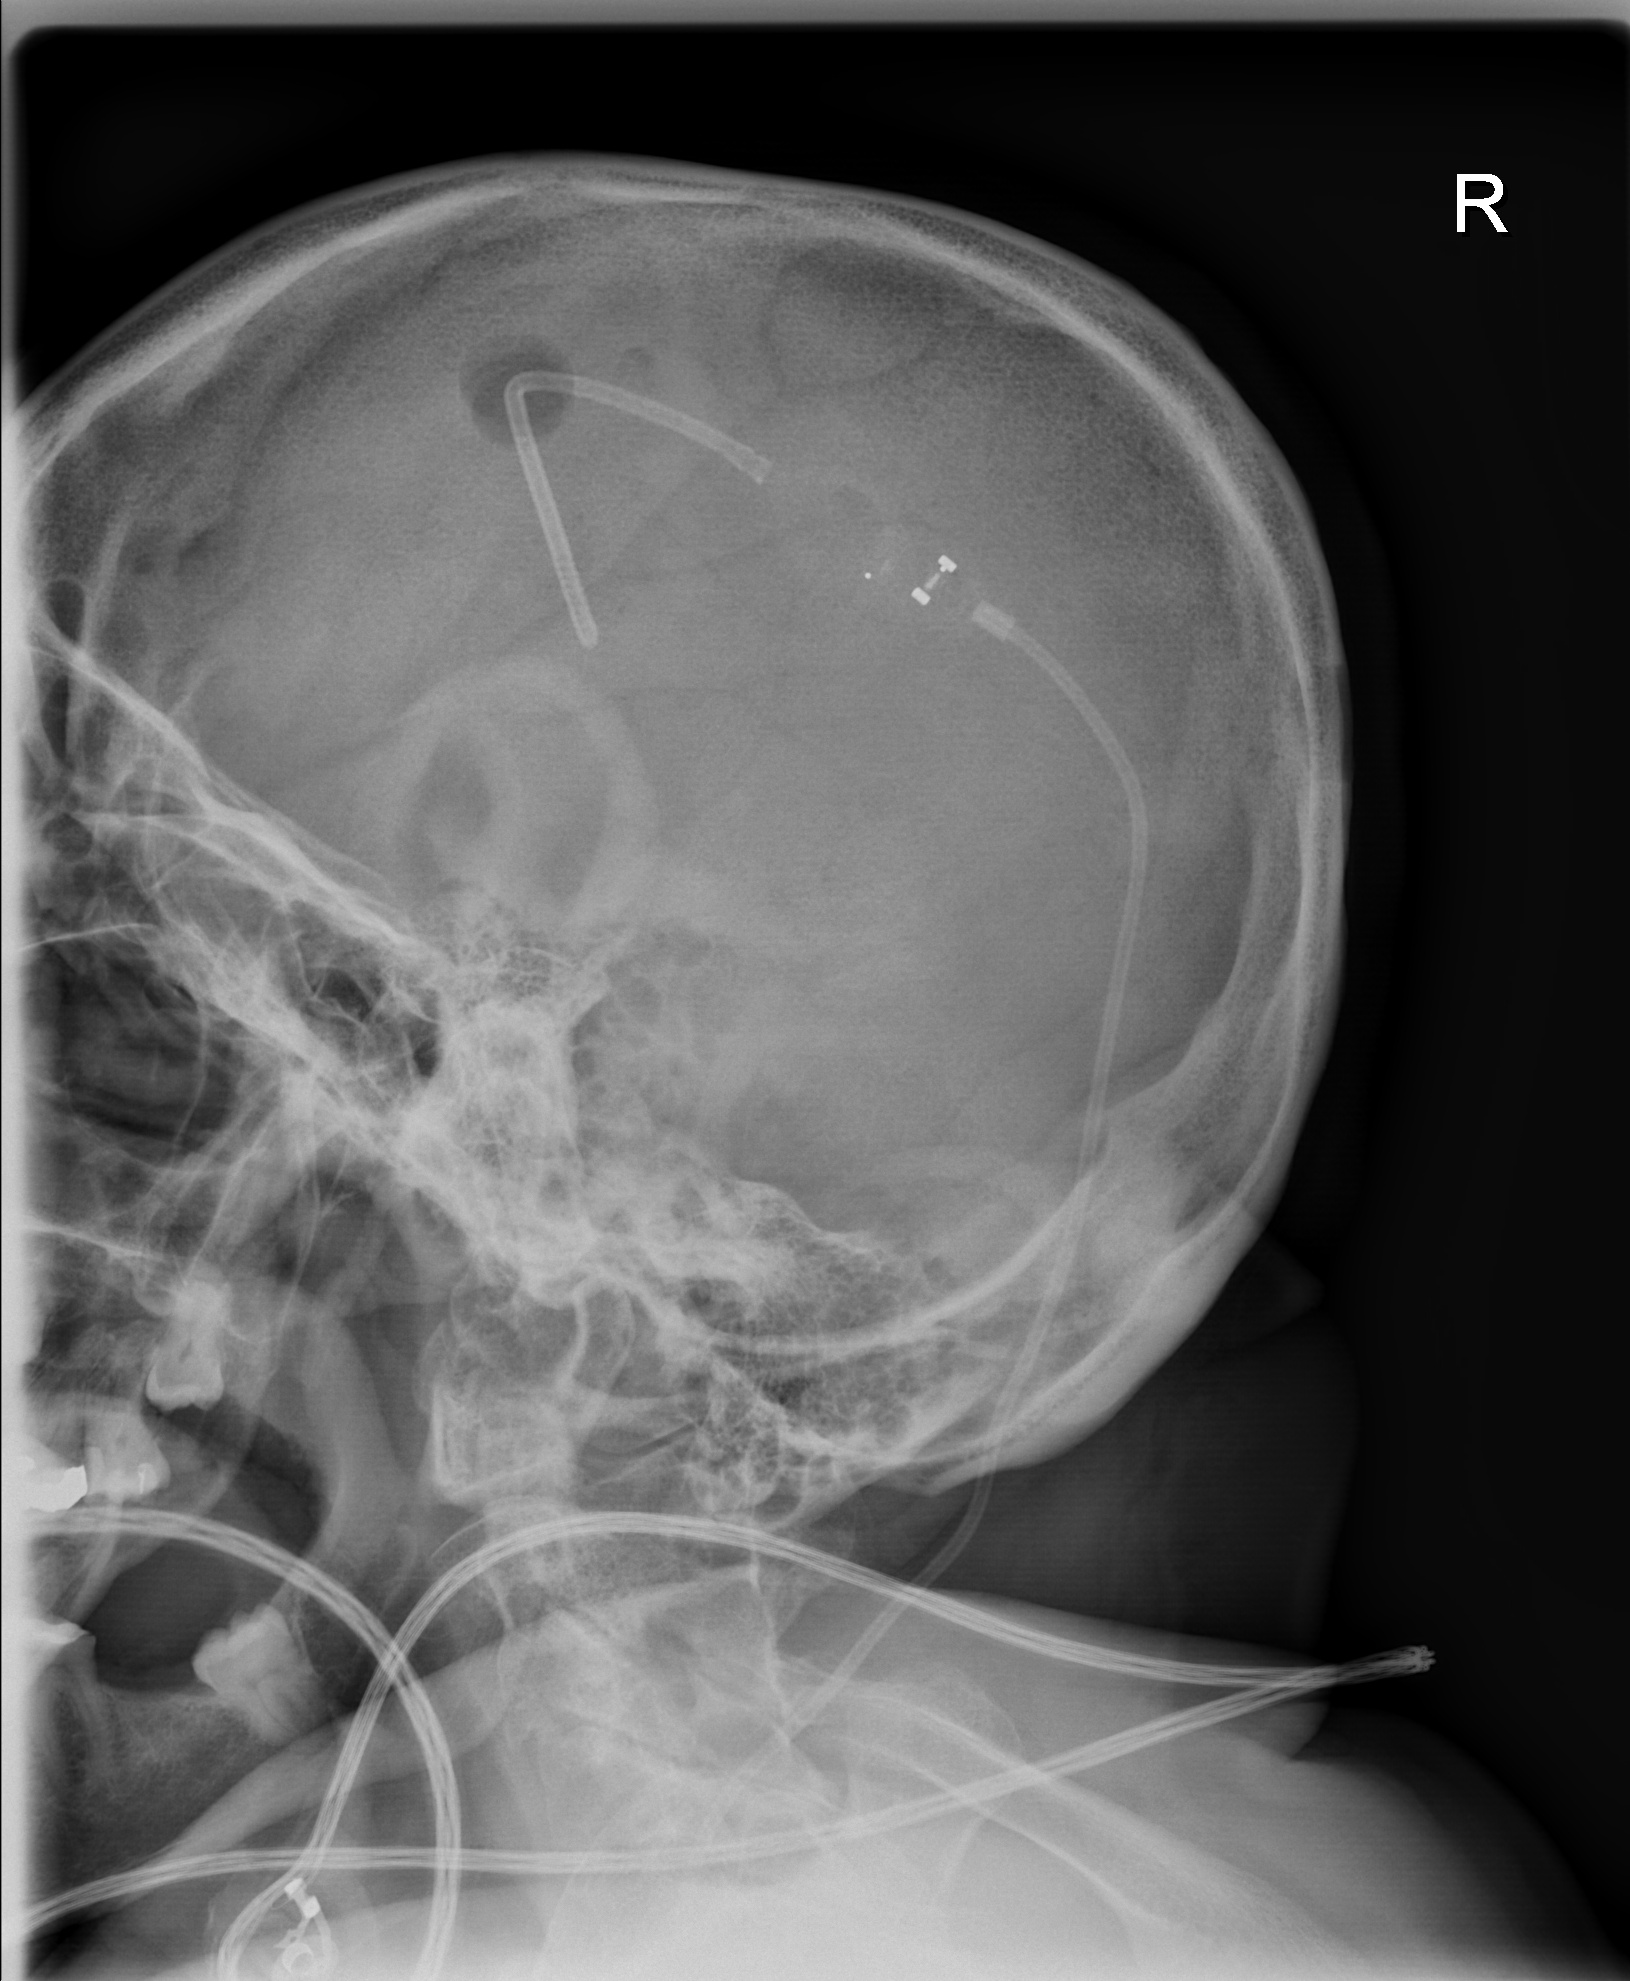Codman Certas: (849, 513, 995, 645)
